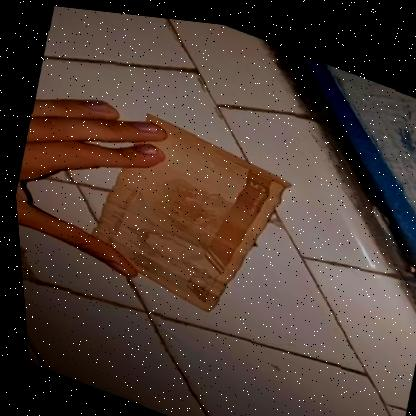five-back-vef: (69, 95, 303, 330)
